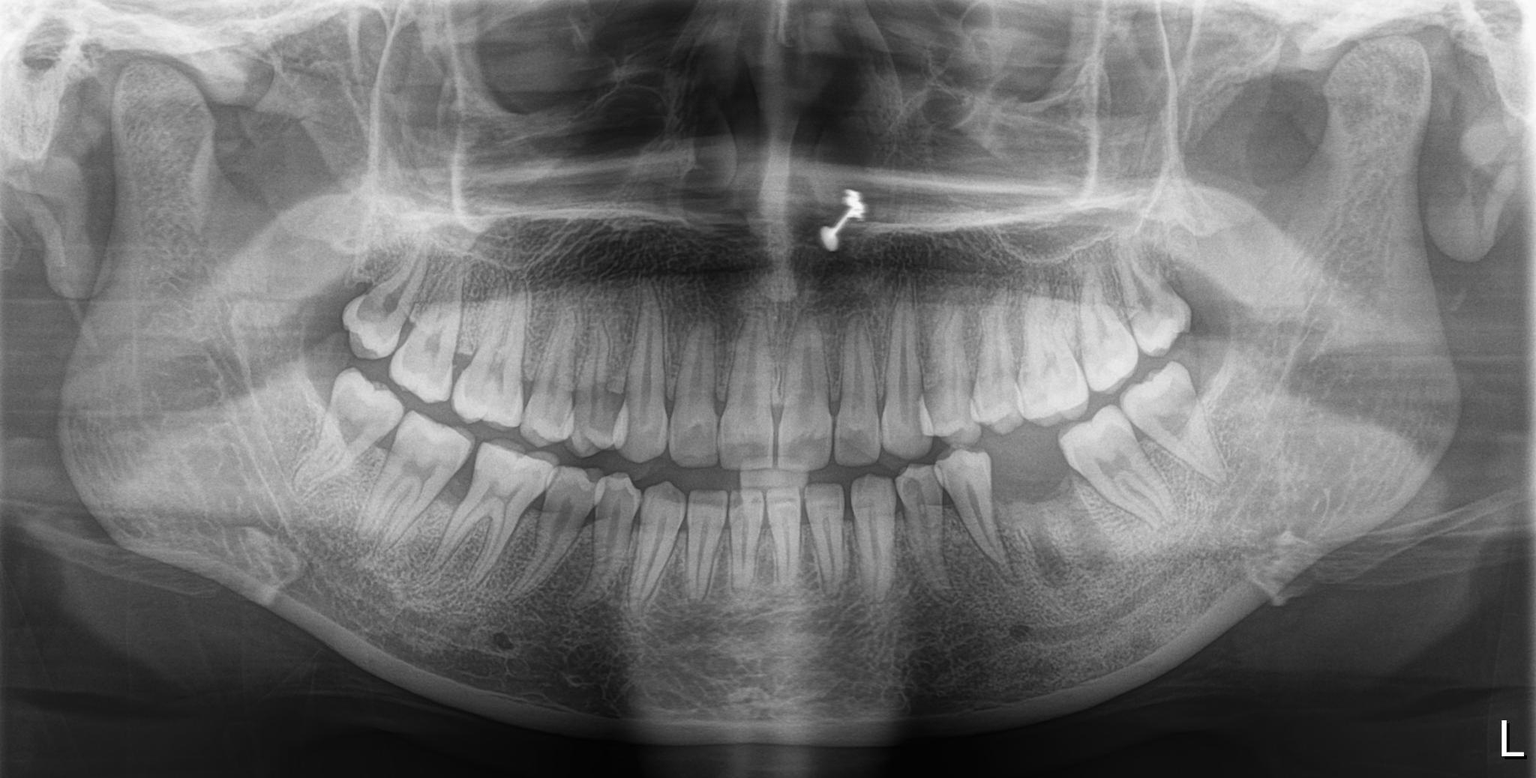Dental Caries: (354, 290, 401, 329), (416, 328, 446, 365), (1029, 343, 1060, 376)
Impacted Third Molar: (311, 382, 385, 473), (1137, 384, 1208, 472)
Missing Tooth: (1001, 448, 1087, 575)
